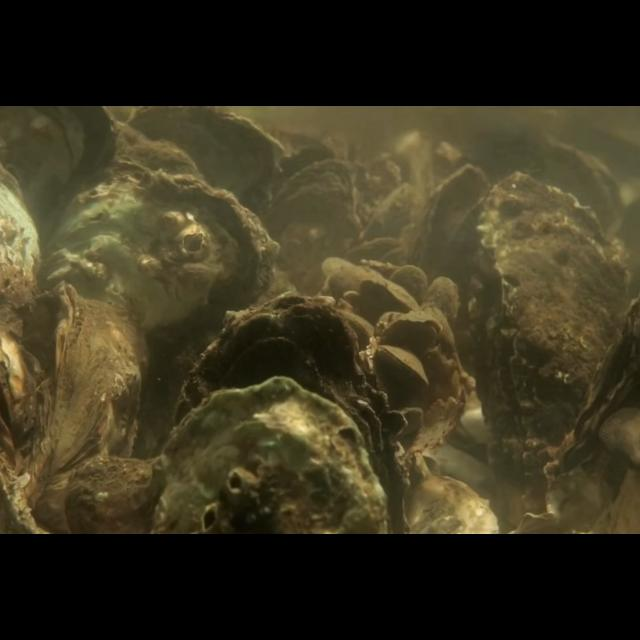Oyster-Closed: (47, 166, 281, 444), (178, 292, 408, 534), (148, 373, 388, 534), (29, 280, 147, 534), (127, 105, 285, 218), (0, 106, 118, 240), (60, 455, 152, 535), (0, 161, 40, 339), (400, 472, 500, 534), (360, 277, 420, 313), (388, 265, 428, 313), (385, 317, 443, 349), (322, 256, 371, 292), (426, 276, 458, 326)
Oyster-Open: (469, 170, 629, 468), (540, 282, 640, 502), (259, 143, 355, 285), (412, 162, 492, 318), (0, 329, 38, 463), (376, 345, 430, 387)
